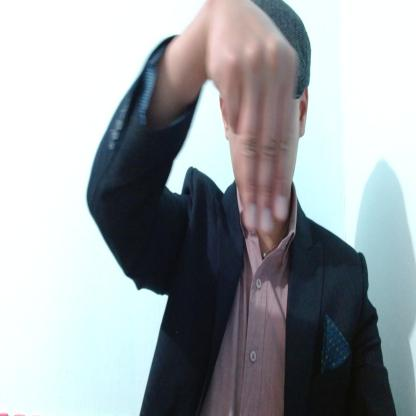M: (203, 0, 296, 235)
